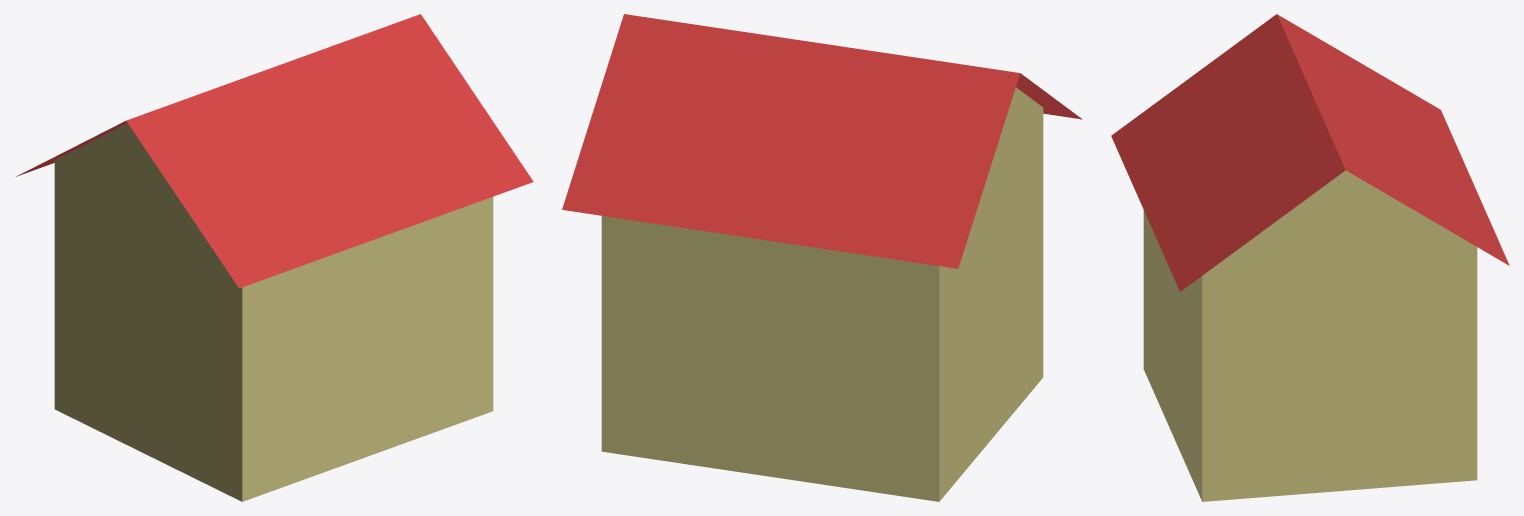
3 renders of one model, left to right at view 1: azimuth 30°, elevation 25°; view 2: azimuth 150°, elevation 25°; view 3: azimuth 270°, elevation 25°, orthographic. The views are drawn at different scales.
Bounding box in the file's own units: 15.52 × 14.35 × 13.19.
